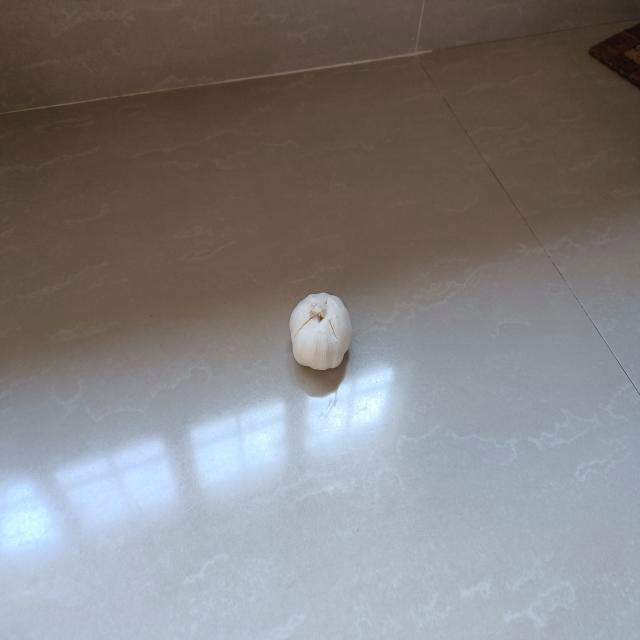garlic: (286, 286, 356, 377)
